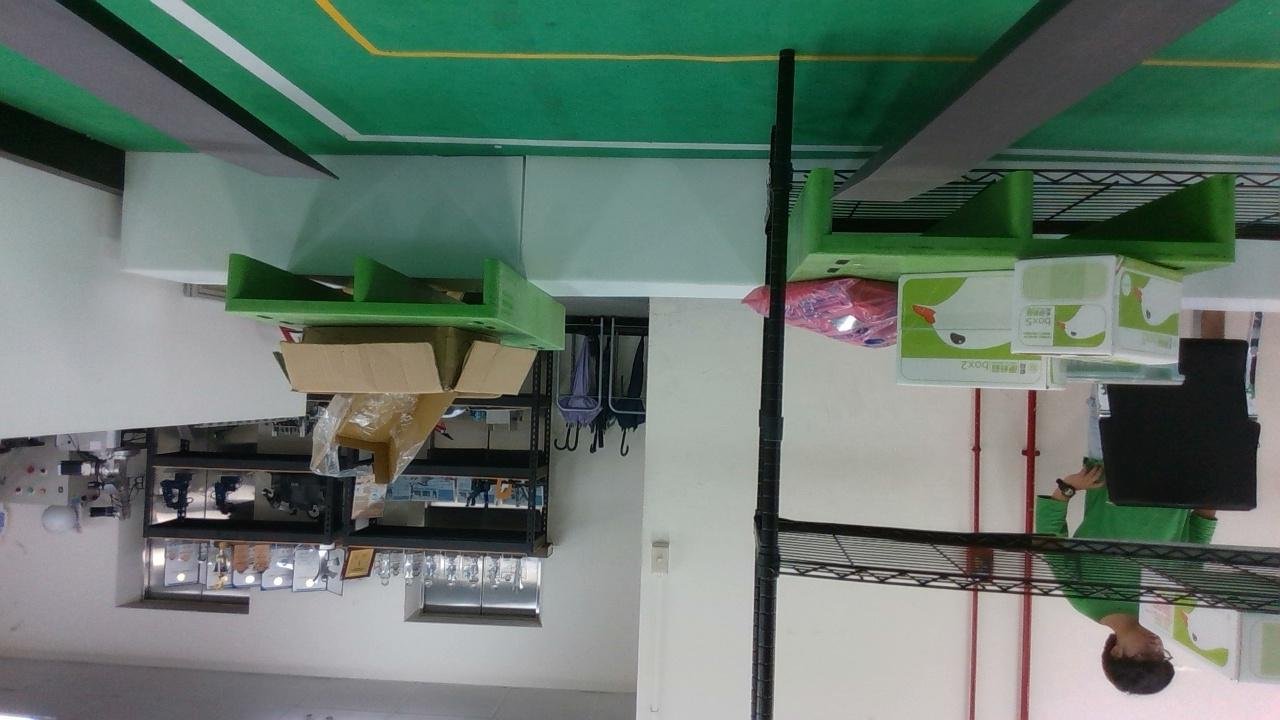Pallet: (804, 169, 1238, 266), (226, 253, 500, 321)
